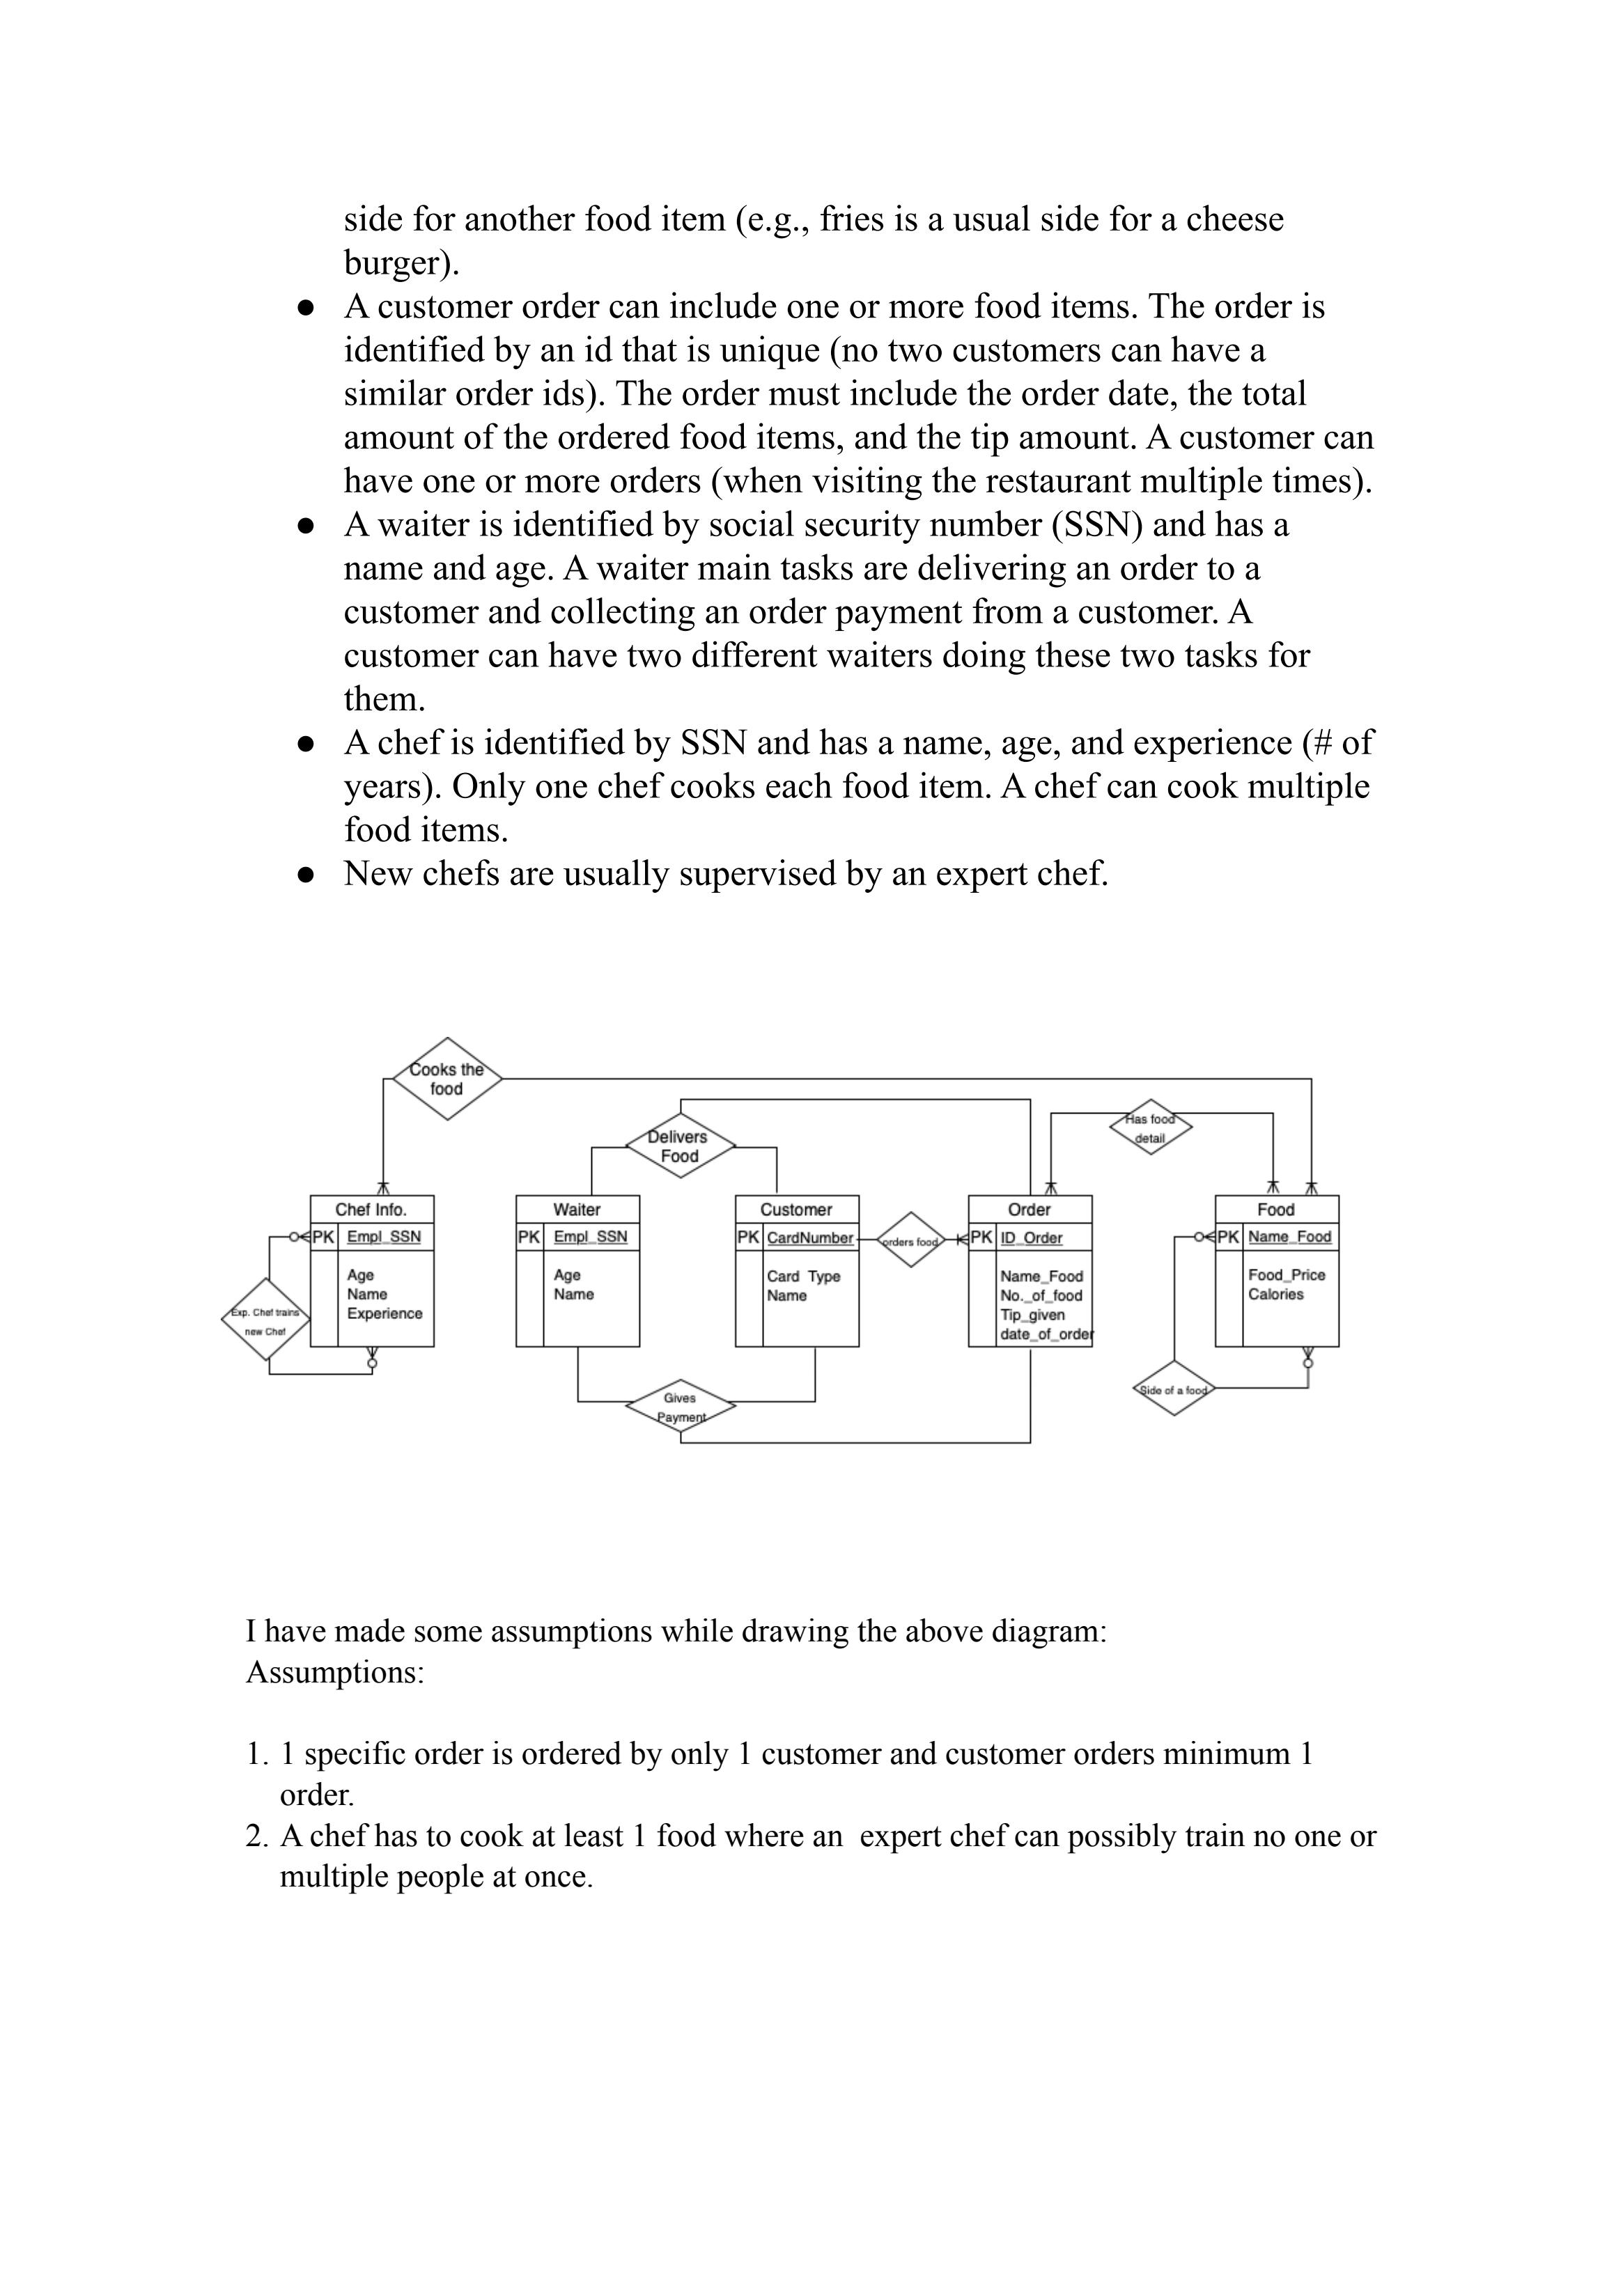Entity: (515, 1194, 643, 1348), (966, 1194, 1094, 1348), (1214, 1194, 1342, 1348), (309, 1194, 436, 1348), (734, 1194, 861, 1348)
Relationship: (392, 1036, 504, 1122), (220, 1278, 309, 1362), (625, 1113, 736, 1180), (625, 1378, 738, 1432), (1110, 1099, 1193, 1157), (1133, 1360, 1215, 1417), (875, 1211, 945, 1267)
